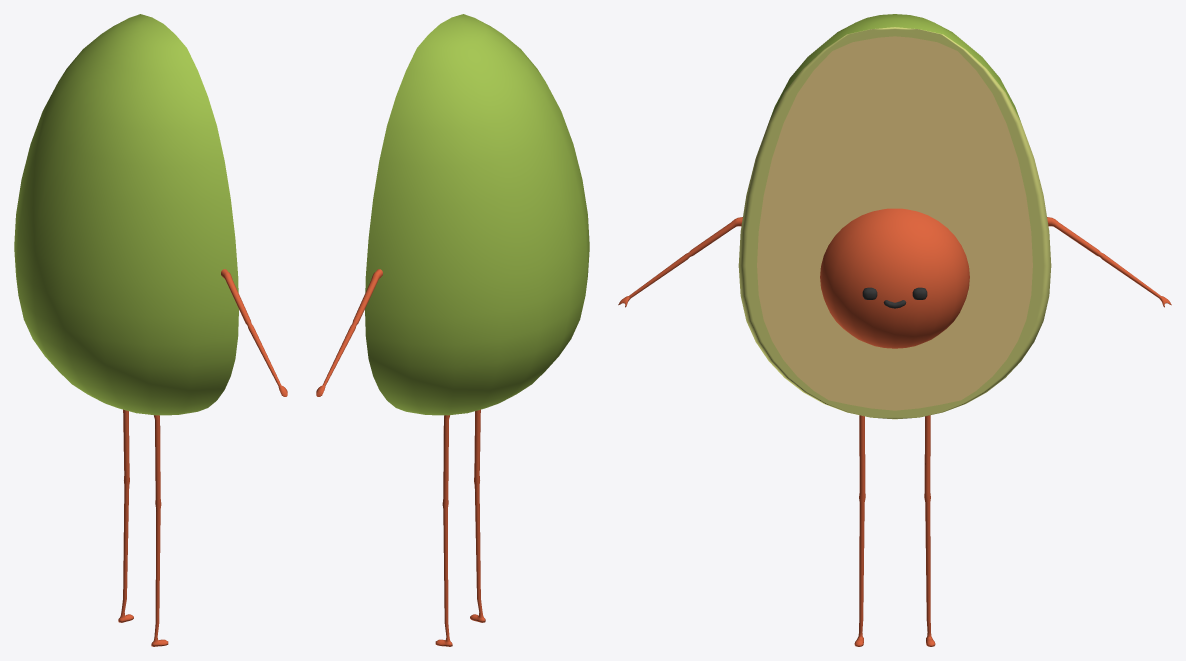
The model's file is avocadoCharacter.glb.
3 renders of one model, left to right at view 1: azimuth 30°, elevation 25°; view 2: azimuth 150°, elevation 25°; view 3: azimuth 270°, elevation 25°, orthographic. The views are drawn at different scales.
Parts seen in each view (by area): view 1: mesh_char_88_1; view 2: mesh_char_88_1; view 3: mesh_char_88_1.
Part boxes in pixels (box(x1,y1,x2,y2)): mesh_char_88_1: box(14, 14, 287, 646); mesh_char_88_1: box(316, 14, 589, 646); mesh_char_88_1: box(618, 14, 1171, 646).
Size of the model in its own units: 1.64 by 5.14 by 4.11.
1 material, 1 textured.
